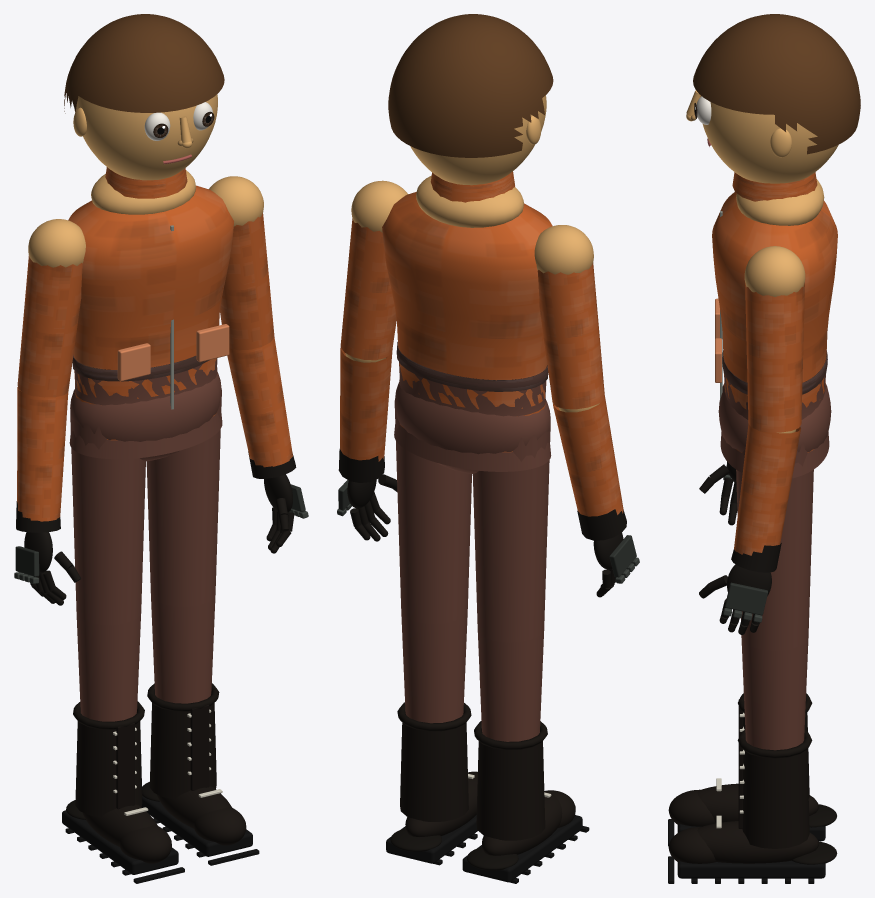
Rendered from 07-pantalon-en-cuir.glb.
The picture shows the model from 3 angles, left to right: view 1: azimuth 30°, elevation 25°; view 2: azimuth 150°, elevation 25°; view 3: azimuth 270°, elevation 25°; orthographic projection. The views are drawn at different scales.
Size of the model in its own units: 0.6344 by 1.77 by 0.3715.
Materials: 25 (3 with a texture image).
